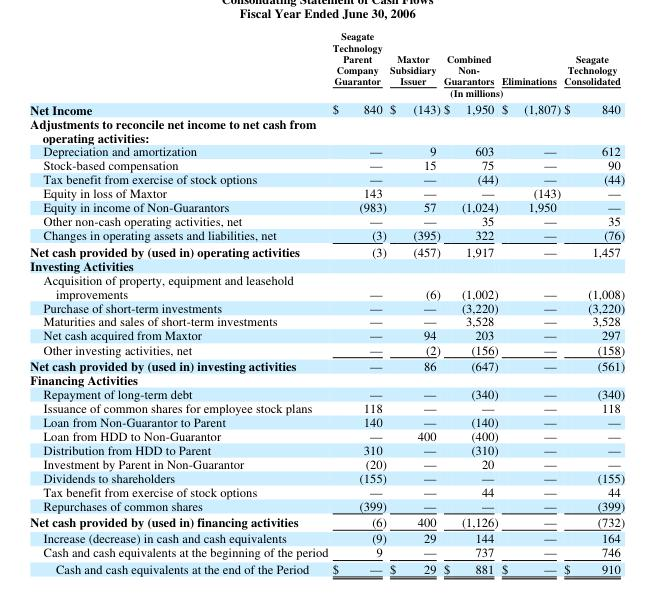table: (29, 28, 624, 576)
table column: (29, 28, 329, 576), (561, 28, 624, 576), (499, 28, 561, 576), (329, 28, 387, 576), (441, 28, 499, 576), (387, 28, 441, 576)
table column header: (29, 28, 624, 99)
table projected row header: (29, 116, 624, 143), (29, 258, 624, 272), (29, 372, 624, 386)
table row: (29, 28, 624, 86), (29, 116, 624, 143), (29, 272, 624, 299), (29, 99, 624, 116), (29, 512, 624, 529), (29, 559, 624, 576), (29, 242, 624, 258), (29, 356, 624, 372), (29, 227, 624, 242), (29, 341, 624, 356), (29, 497, 624, 512), (29, 529, 624, 544), (29, 544, 624, 559), (29, 143, 624, 157), (29, 157, 624, 171), (29, 171, 624, 185), (29, 185, 624, 199), (29, 199, 624, 213), (29, 213, 624, 227), (29, 258, 624, 272), (29, 299, 624, 313), (29, 313, 624, 327), (29, 327, 624, 341), (29, 372, 624, 386), (29, 399, 624, 413), (29, 413, 624, 427), (29, 427, 624, 441), (29, 441, 624, 455), (29, 455, 624, 469), (29, 469, 624, 483), (29, 483, 624, 497), (29, 86, 624, 99), (29, 386, 624, 399)
table spanning cell: (329, 86, 624, 99)
